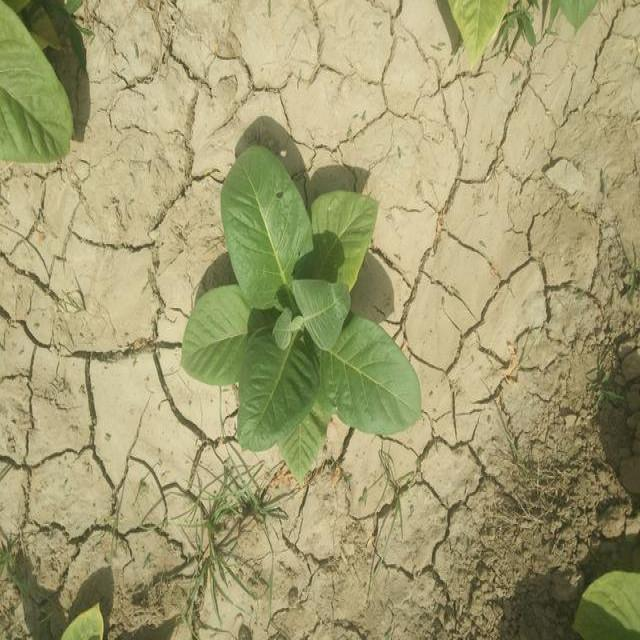crop: (175, 146, 419, 463), (0, 1, 73, 164), (443, 0, 596, 59), (578, 567, 640, 639), (68, 599, 110, 640)
